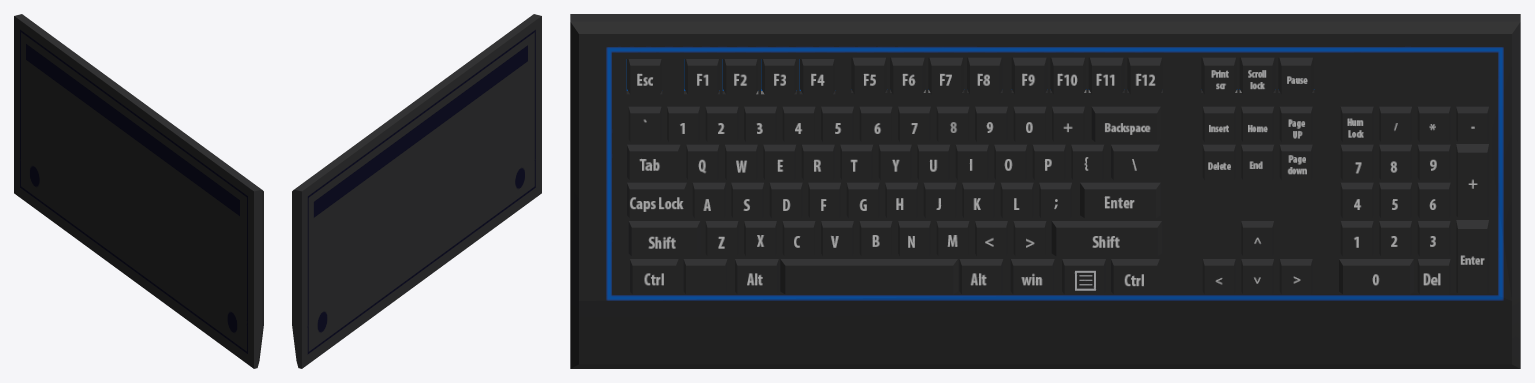
The model's file is keyboard1.gltf.
3 renders of one model, left to right at view 1: azimuth 30°, elevation 25°; view 2: azimuth 150°, elevation 25°; view 3: azimuth 270°, elevation 25°, orthographic. The views are drawn at different scales.
Visible parts, largest first — view 1: node-0; view 2: node-0; view 3: node-0.
Part boxes in pixels (x1=…): node-0: x1=14, y1=14, x2=263, y2=368; node-0: x1=292, y1=14, x2=541, y2=368; node-0: x1=570, y1=14, x2=1520, y2=368.
Size of the model in its own units: 0.0171 by 0.1702 by 0.4168.
1 material, 1 textured.
